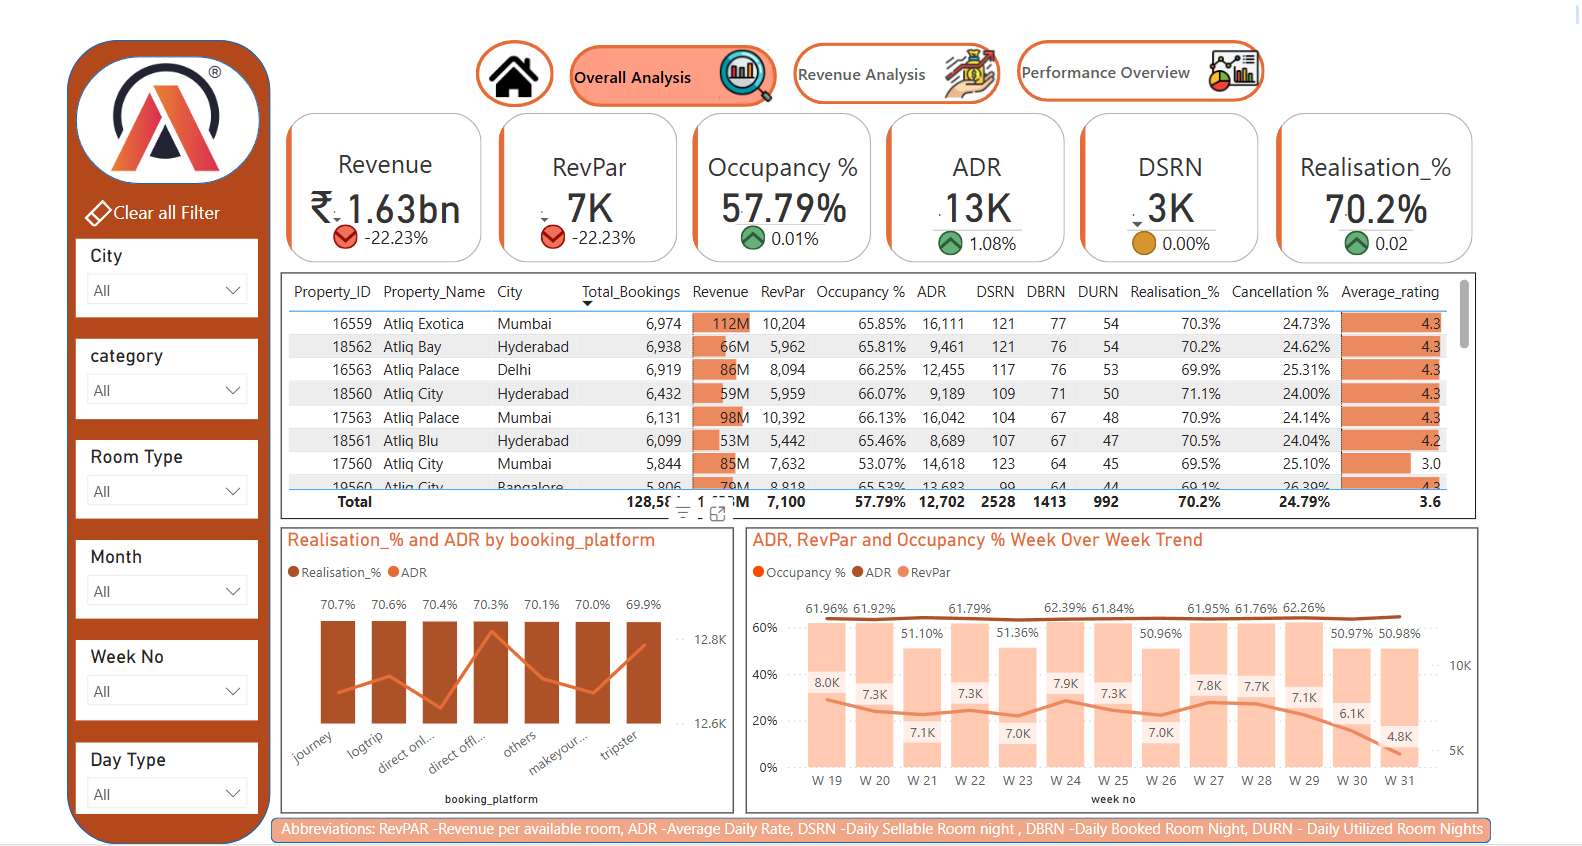

The dashboard page shown, as its layout file describes it:
{"tool":"powerbi","page":{"name":"Overall_analysis","canvas":[1280,720],"ordinal":1},"visuals":[{"type":"shape","box":[0,0,182.2,720.2],"z":0},{"type":"shape","box":[7.4,14.8,164.9,114.5],"z":1000},{"type":"image","box":[33.2,11.1,112,114.5],"z":2000},{"type":"cardVisual","fields":{"Data":["Key_measures.Revenue"]},"box":[191.8,60.3,185.8,144.8],"z":3000},{"type":"tableEx","fields":{"Values":["Key_measures.Revenue WoW Change %"]},"box":[227.7,138.7,120,74],"z":4000},{"type":"slicer","fields":{"Values":["dim_date.week no"]},"box":[8.2,537.3,163.3,72.1],"z":5000},{"type":"slicer","fields":{"Values":["dim_rooms.room_class"]},"box":[8.2,358.3,163.3,70.7],"z":6000},{"type":"slicer","fields":{"Values":["dim_hotels.city"]},"box":[8.2,177.9,163.3,70.7],"z":7000},{"type":"slicer","fields":{"Values":["dim_date.mmm yy"]},"box":[8.2,447.8,163.3,70.7],"z":8000},{"type":"slicer","fields":{"Values":["dim_hotels.category"]},"box":[8.2,267.4,163.3,72.1],"z":9000},{"type":"actionButton","box":[5.4,133.3,167.3,39.5],"z":10000},{"type":"tableEx","fields":{"Values":["dim_hotels.property_id","dim_hotels.property_name","dim_hotels.city","Key_measures.total_bookings","Key_measures.Revenue","Key_measures.RevPar","Key_measures.Occupancy %","Key_measures.ADR","Key_measures.DSRN","Key_measures.DBRN","Key_measures.DURN","Key_measures.Realisation_%"]},"box":[191.8,208.2,1070.8,220.4],"z":11000},{"type":"cardVisual","fields":{"Data":["Key_measures.RevPar"]},"box":[381.2,60.3,170.1,144],"z":12000},{"type":"cardVisual","fields":{"Data":["Key_measures.Occupancy %"]},"box":[554.9,60.3,170.1,144],"z":13000},{"type":"cardVisual","fields":{"Data":["Key_measures.ADR"]},"box":[728.6,60.3,170.2,144.1],"z":14000},{"type":"cardVisual","fields":{"Data":["Key_measures.DSRN"]},"box":[902.4,60.3,170.2,144.1],"z":15000},{"type":"cardVisual","fields":{"Data":["Key_measures.Realisation_%"]},"box":[1077.6,60.3,186.4,145.6],"z":16000},{"type":"tableEx","fields":{"Values":["Key_measures.RevPar WOW change %"]},"box":[413.6,138.7,119,74.8],"z":17000},{"type":"tableEx","fields":{"Values":["Key_measures.Occupancy WOW change %"]},"box":[591.8,138.8,118.4,73.5],"z":18000},{"type":"tableEx","fields":{"Values":["Key_measures.ADR WOW Change %"]},"box":[768.7,138.8,118.4,73.5],"z":19000},{"type":"tableEx","fields":{"Values":["Key_measures.DSRN Wow change %"]},"box":[942.9,138.8,119.7,73.5],"z":20000},{"type":"tableEx","fields":{"Values":["Key_measures.Realisation WoW change %"]},"box":[1132.8,138.7,118.2,73.6],"z":21000},{"type":"lineStackedColumnComboChart","fields":{"Category":["fact_bookings.booking_platform"],"Y":["Key_measures.Realisation_%"],"Y2":["Key_measures.ADR"]},"box":[191.8,436.7,405.4,255.8],"z":22000},{"type":"lineClusteredColumnComboChart","title":"ADR, RevPar and Occupancy % Week Over Week Trend","fields":{"Category":["dim_date.week no"],"Y2":["Key_measures.ADR","Key_measures.RevPar"],"Y":["Key_measures.Occupancy %"]},"box":[608,436.7,656.3,255.8],"z":23000},{"type":"slicer","fields":{"Values":["dim_date.Day_Type"]},"box":[8.2,628.6,163.3,63.9],"z":24000},{"type":"actionButton","title":"H","box":[365.6,0,70,60.3],"z":25000},{"type":"actionButton","box":[450,4.8,185.8,55.5],"z":26000},{"type":"actionButton","box":[650.3,2.4,185.8,55.5],"z":27000},{"type":"actionButton","box":[850.5,0,222,55.5],"z":28000},{"type":"shape","box":[182.1,696.1,1093,22.9],"z":28001},{"type":"textbox","box":[187,691.3,1093,29],"z":28002}]}

Visuals, with their boxes on the page's 1280x720 design canvas (x1, y1, x2, y2). These are canvas units, not pixel positions in the 1582x846 screenshot, which may show the page scaled, cropped or inside an application window:
shape: bbox=[0, 0, 182, 720]
shape: bbox=[7, 15, 172, 129]
image: bbox=[33, 11, 145, 126]
cardVisual - Key_measures.Revenue: bbox=[192, 60, 378, 205]
tableEx - Key_measures.Revenue WoW Change %: bbox=[228, 139, 348, 213]
slicer - dim_date.week no: bbox=[8, 537, 172, 609]
slicer - dim_rooms.room_class: bbox=[8, 358, 172, 429]
slicer - dim_hotels.city: bbox=[8, 178, 172, 249]
slicer - dim_date.mmm yy: bbox=[8, 448, 172, 518]
slicer - dim_hotels.category: bbox=[8, 267, 172, 340]
actionButton: bbox=[5, 133, 173, 173]
tableEx - dim_hotels.property_id x dim_hotels.property_name: bbox=[192, 208, 1263, 429]
cardVisual - Key_measures.RevPar: bbox=[381, 60, 551, 204]
cardVisual - Key_measures.Occupancy %: bbox=[555, 60, 725, 204]
cardVisual - Key_measures.ADR: bbox=[729, 60, 899, 204]
cardVisual - Key_measures.DSRN: bbox=[902, 60, 1073, 204]
cardVisual - Key_measures.Realisation_%: bbox=[1078, 60, 1264, 206]
tableEx - Key_measures.RevPar WOW change %: bbox=[414, 139, 533, 214]
tableEx - Key_measures.Occupancy WOW change %: bbox=[592, 139, 710, 212]
tableEx - Key_measures.ADR WOW Change %: bbox=[769, 139, 887, 212]
tableEx - Key_measures.DSRN Wow change %: bbox=[943, 139, 1063, 212]
tableEx - Key_measures.Realisation WoW change %: bbox=[1133, 139, 1251, 212]
lineStackedColumnComboChart - fact_bookings.booking_platform x Key_measures.Realisation_%: bbox=[192, 437, 597, 692]
"ADR, RevPar and Occupancy % Week Over Week Trend" lineClusteredColumnComboChart: bbox=[608, 437, 1264, 692]
slicer - dim_date.Day_Type: bbox=[8, 629, 172, 692]
"H" actionButton: bbox=[366, 0, 436, 60]
actionButton: bbox=[450, 5, 636, 60]
actionButton: bbox=[650, 2, 836, 58]
actionButton: bbox=[850, 0, 1072, 56]
shape: bbox=[182, 696, 1275, 719]
textbox: bbox=[187, 691, 1280, 720]
